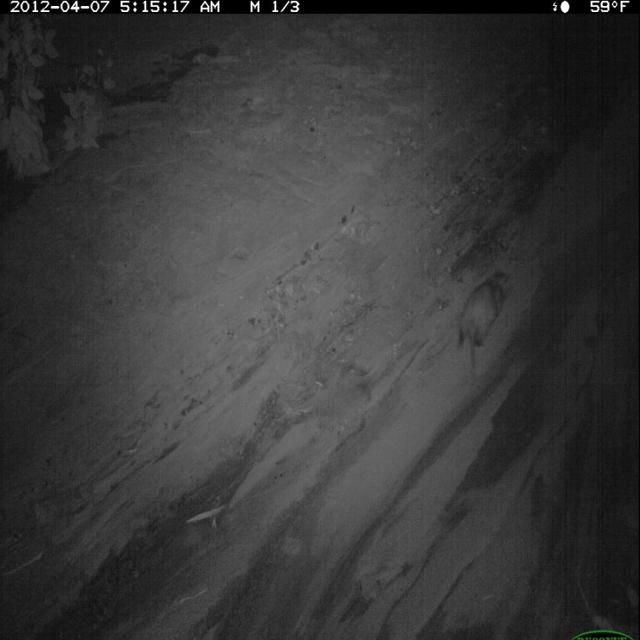opossum: (455, 264, 518, 385)
